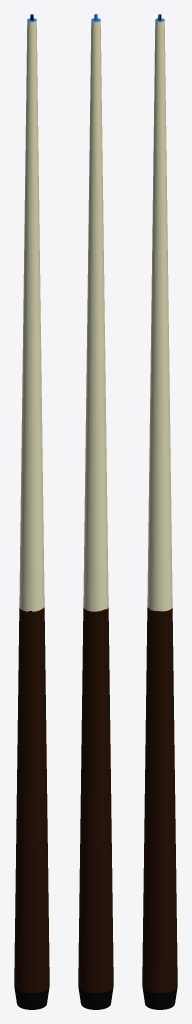
File: pool cue.fbx
3 views of the same model, side by side, from view 1: azimuth 30°, elevation 25°; view 2: azimuth 210°, elevation 25°; view 3: azimuth 330°, elevation 25° (orthographic).
Visible parts, largest first — view 1: Cylinder; view 2: Cylinder; view 3: Cylinder.
Part boxes in pixels (x1,y1,x2,y2): Cylinder: [14, 14, 49, 1009]; Cylinder: [78, 14, 113, 1009]; Cylinder: [142, 14, 177, 1009].
Size of the model in its own units: 9.77 by 302 by 9.77.
